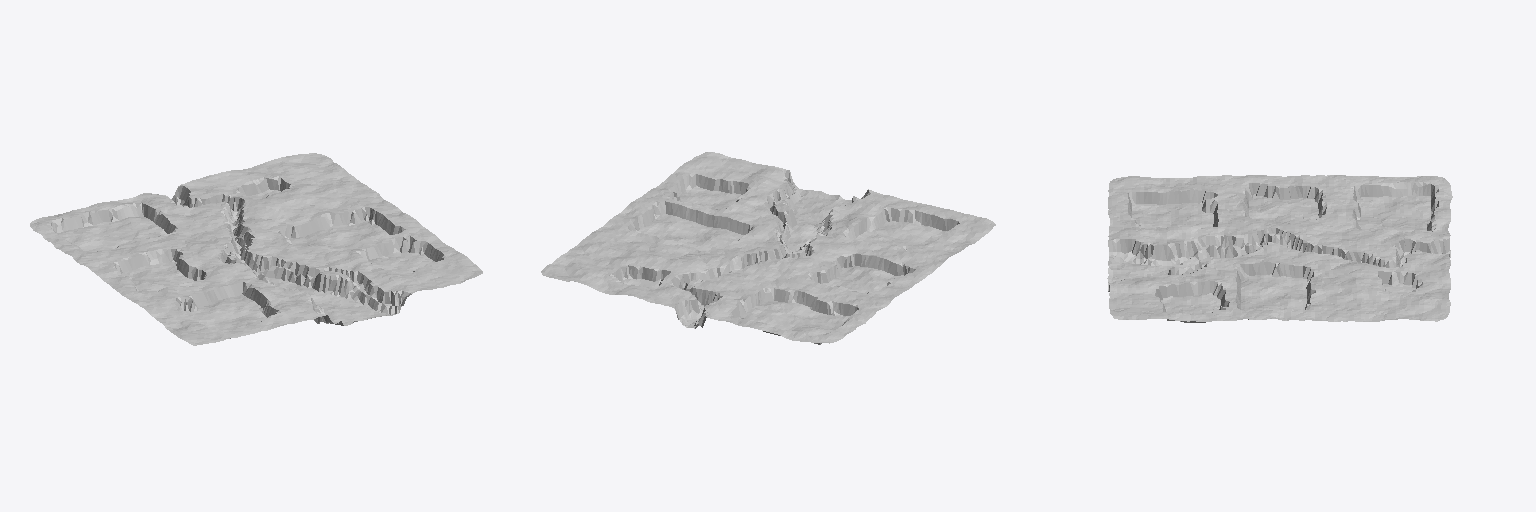
File: floor2.obj
3 renders of one model, left to right at view 1: azimuth 30°, elevation 25°; view 2: azimuth 150°, elevation 25°; view 3: azimuth 270°, elevation 25°, orthographic.
Parts seen in each view (by area): view 1: Plane; view 2: Plane; view 3: Plane.
Part boxes in pixels (left/top/right/bottom): Plane: left=30, top=153, right=482, bottom=345; Plane: left=541, top=152, right=995, bottom=344; Plane: left=1107, top=175, right=1452, bottom=322.
Size of the model in its own units: 101 by 6.46 by 101.